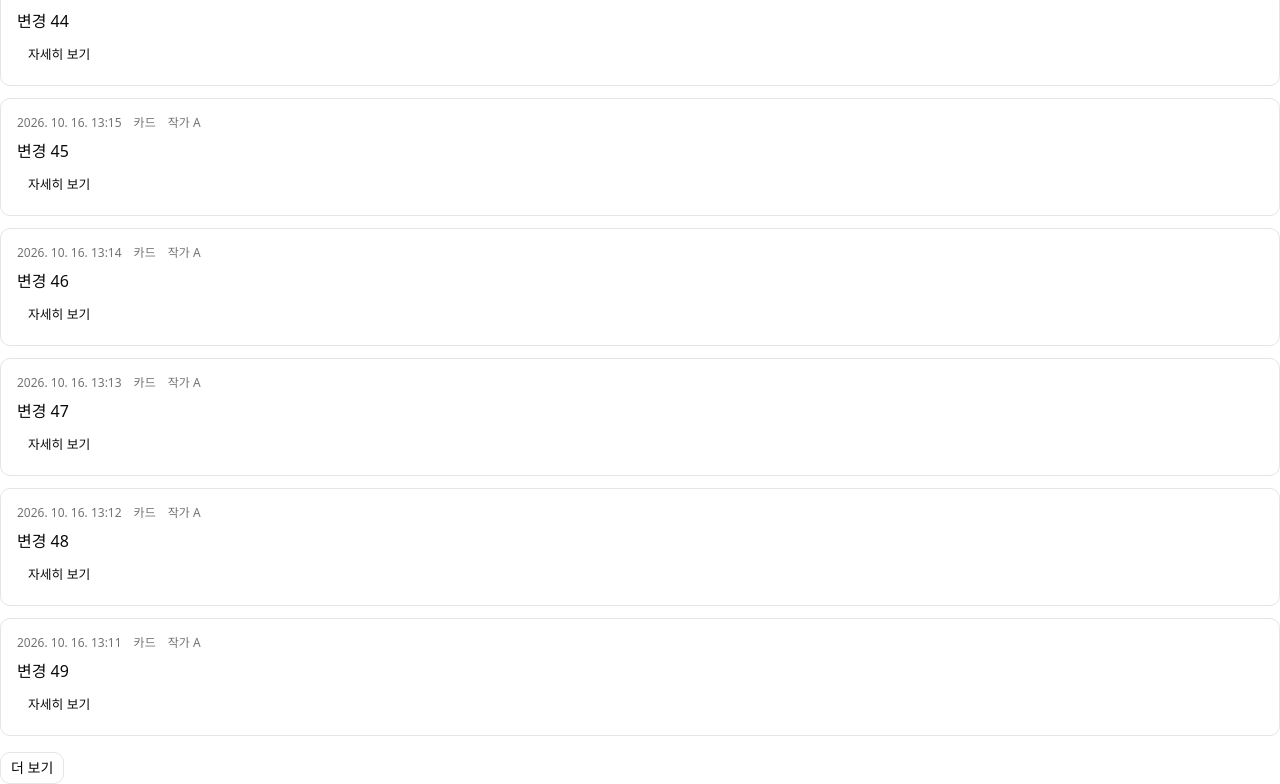
Test case: ChangeList › loads the next page from the oldest loaded change
The width and height of the screenshot is (1280, 784).
(page scrolled)
Click the button "더 보기".
click(32, 768)  # box top-left (0, 752), bottom-right (64, 783)
(page scrolled)
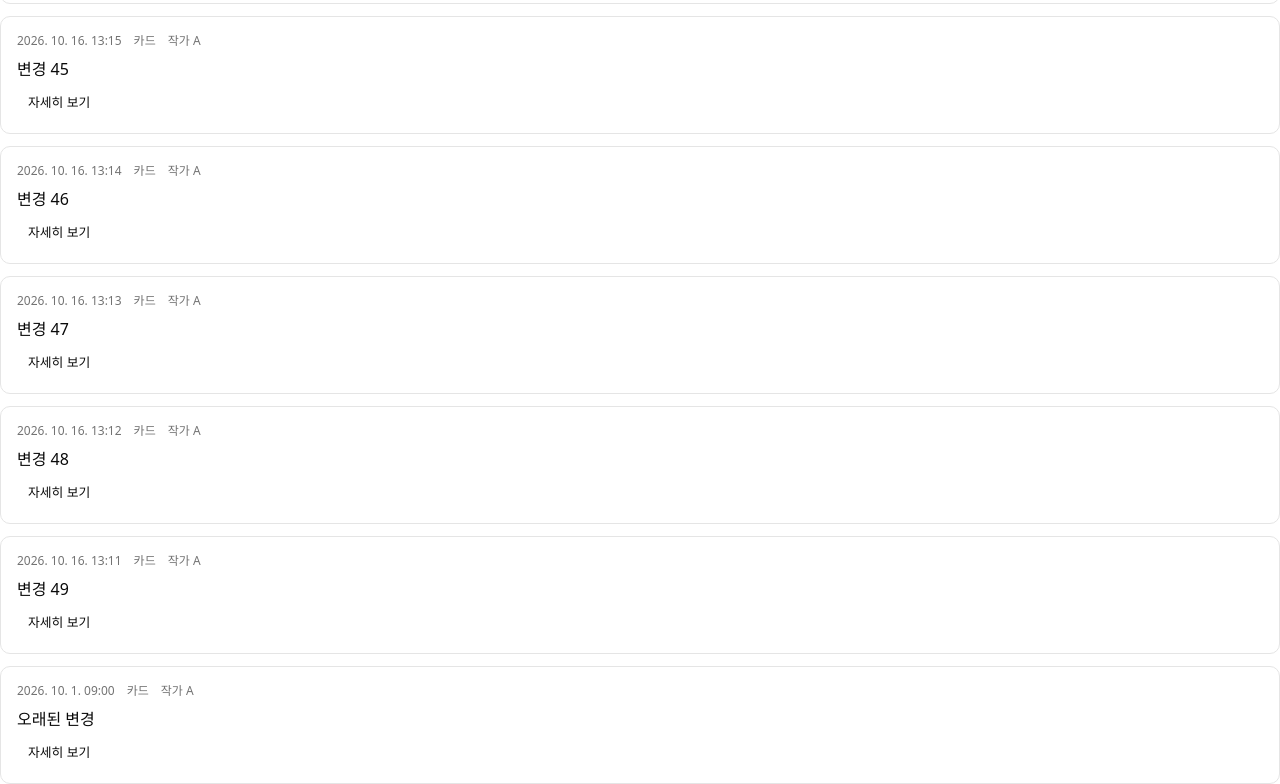
Now the text "오래된 변경" is shown, box top-left (17, 708), bottom-right (95, 730)
Now the button "더 보기" is gone
